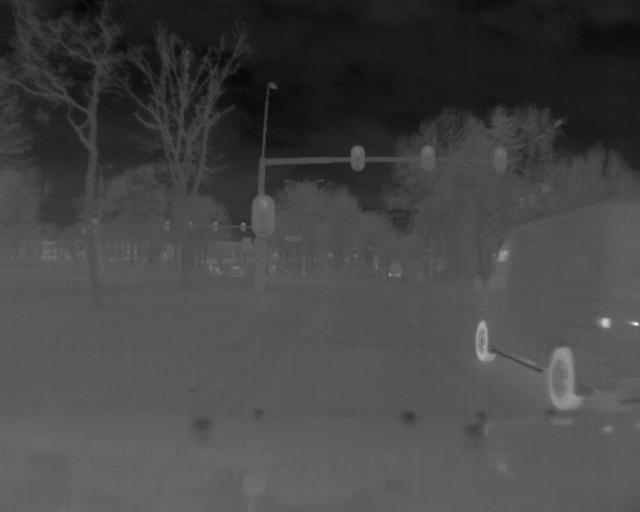car: (473, 197, 640, 412)
